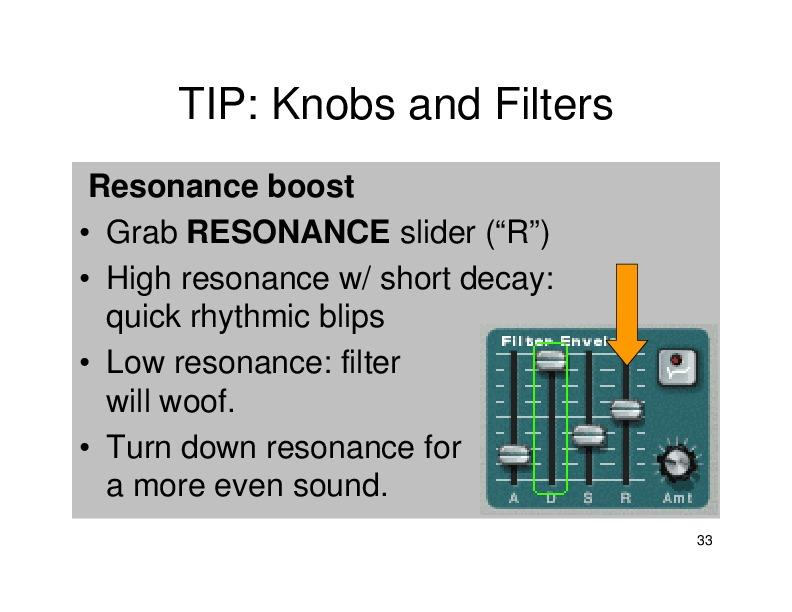paragraph: (73, 163, 739, 522)
title: (175, 73, 632, 137)
